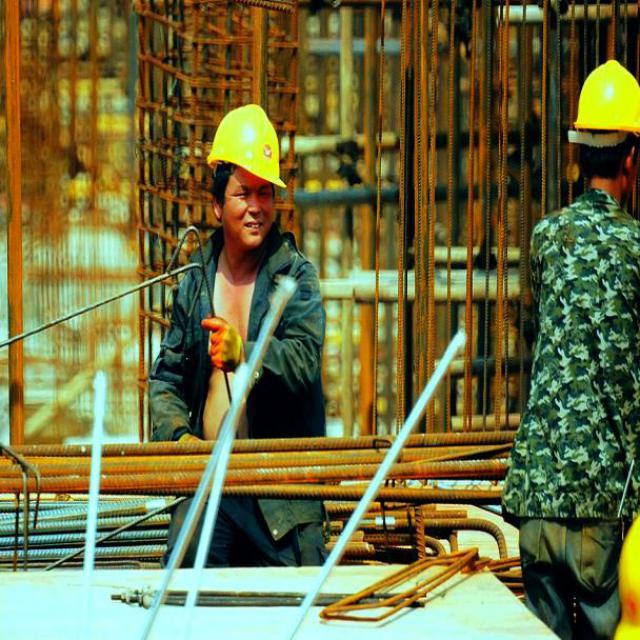gloves: (198, 304, 245, 375)
helmet: (198, 98, 294, 262), (554, 66, 640, 186)
